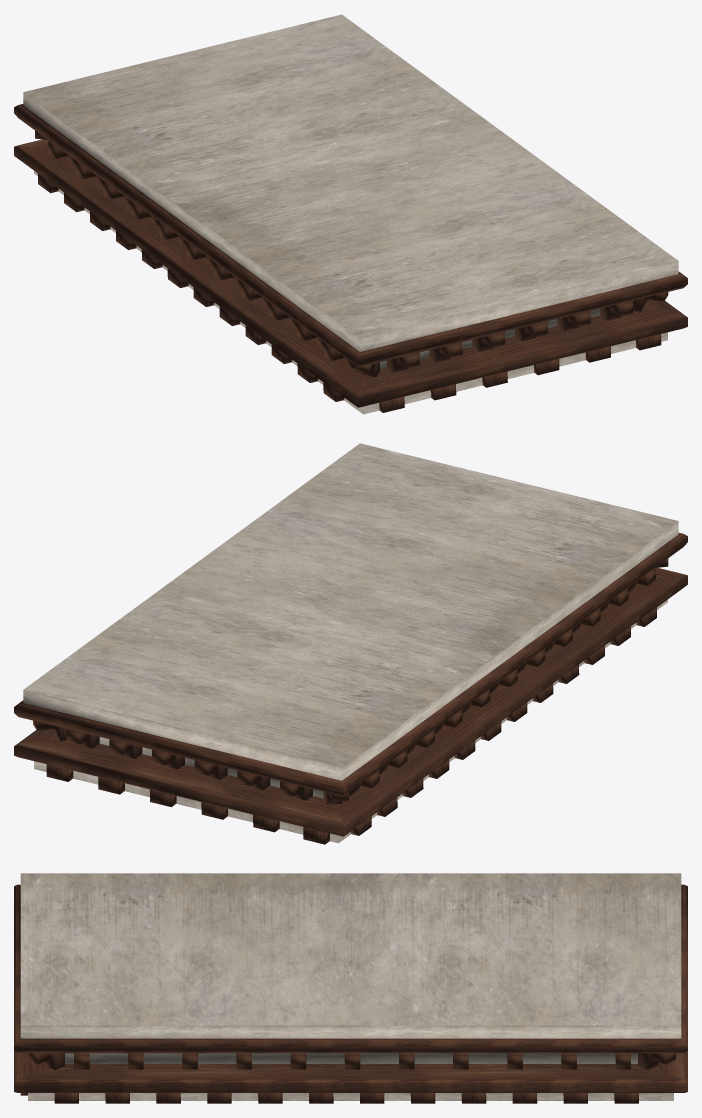
Rendered from SM_R_R_GateModular_1.fbx.
The picture shows the model from 3 angles, top to bottom: view 1: azimuth 30°, elevation 25°; view 2: azimuth 150°, elevation 25°; view 3: azimuth 270°, elevation 25°; orthographic projection.
Visible parts, largest first — view 1: SM_R_R_GateModular_1; view 2: SM_R_R_GateModular_1; view 3: SM_R_R_GateModular_1.
Boxes of the visible parts, x1,y1,x2,y2 form: SM_R_R_GateModular_1: [14, 14, 687, 414]; SM_R_R_GateModular_1: [14, 443, 687, 844]; SM_R_R_GateModular_1: [14, 873, 687, 1103].
Size of the model in its own units: 198 by 357 by 46.02.
Materials: 3 (3 with a texture image).
